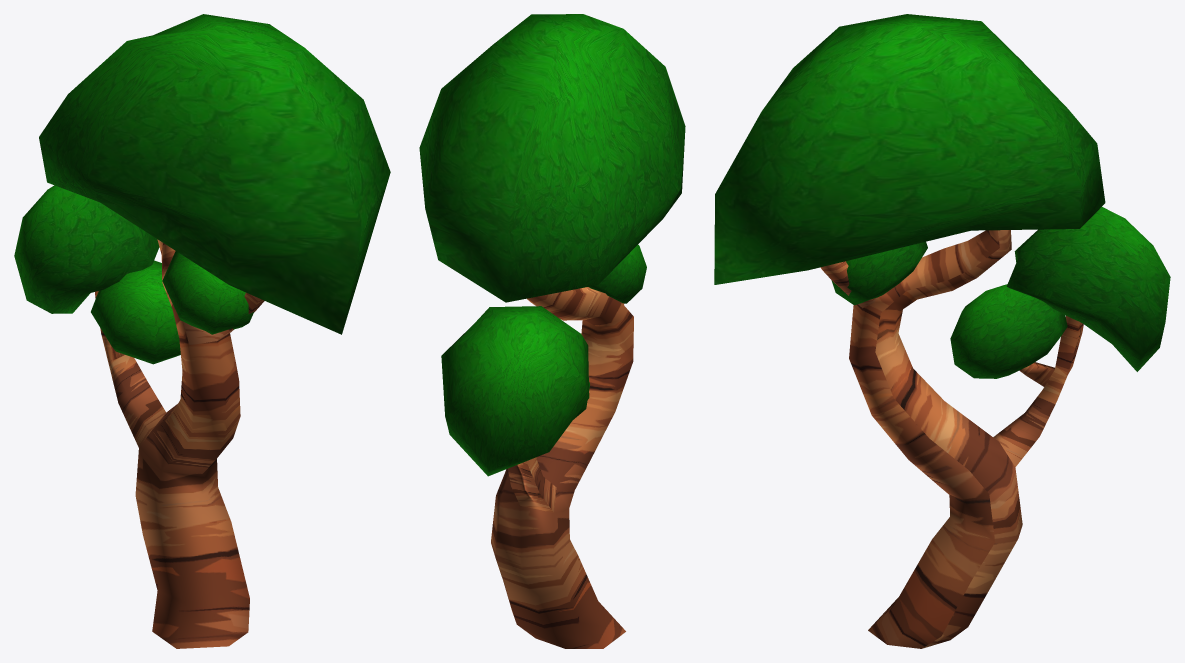
Rendered from tree 2.fbx.
3 renders of one model, left to right at view 1: azimuth 30°, elevation 25°; view 2: azimuth 150°, elevation 25°; view 3: azimuth 270°, elevation 25°, orthographic. The views are drawn at different scales.
Visible parts, largest first — view 1: tree_2; view 2: tree_2; view 3: tree_2.
Boxes of the visible parts, x1,y1,x2,y2 form: tree_2: (14, 14, 390, 648); tree_2: (419, 14, 685, 648); tree_2: (714, 14, 1170, 648).
Size of the model in its own units: 22.43 by 53.17 by 36.03.
